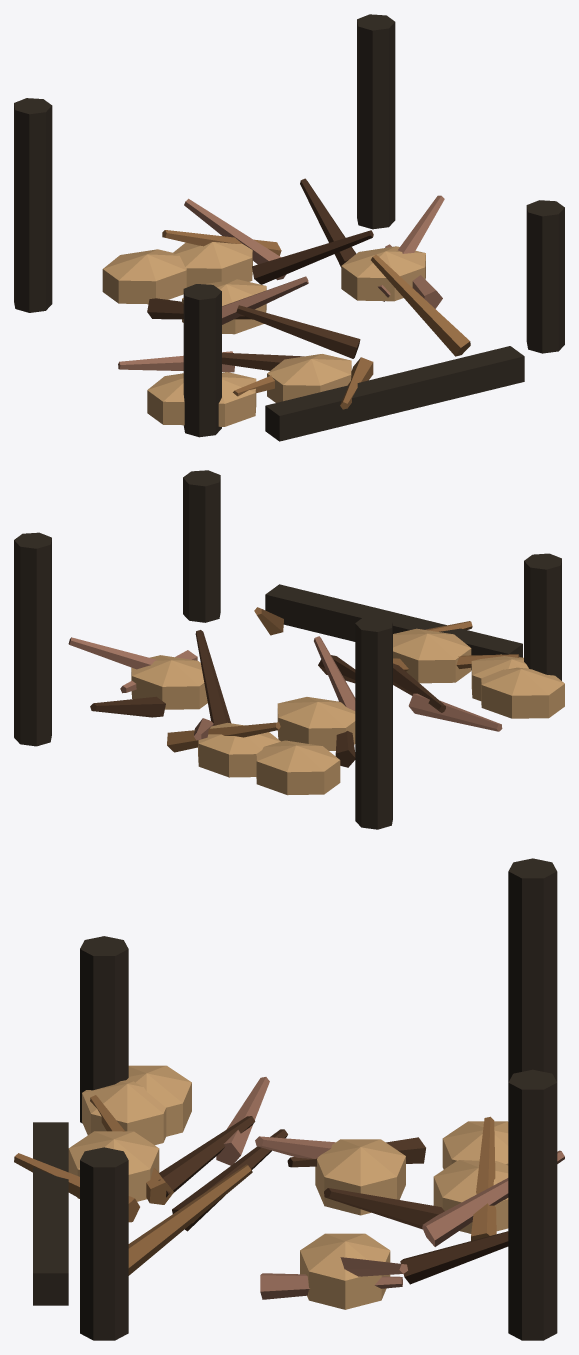
3 views of the same model, one above another, from view 1: azimuth 30°, elevation 25°; view 2: azimuth 150°, elevation 25°; view 3: azimuth 270°, elevation 25° (orthographic). The views are drawn at different scales.
Visible parts, largest first — view 1: ruined-cottage; view 2: ruined-cottage; view 3: ruined-cottage.
Part boxes in pixels (box(x1,y1,x2,y2)): ruined-cottage: box(14, 14, 564, 441); ruined-cottage: box(14, 470, 564, 829); ruined-cottage: box(14, 858, 564, 1340).
Bounding box in the file's own units: 3.18 × 1.6 × 3.09.
